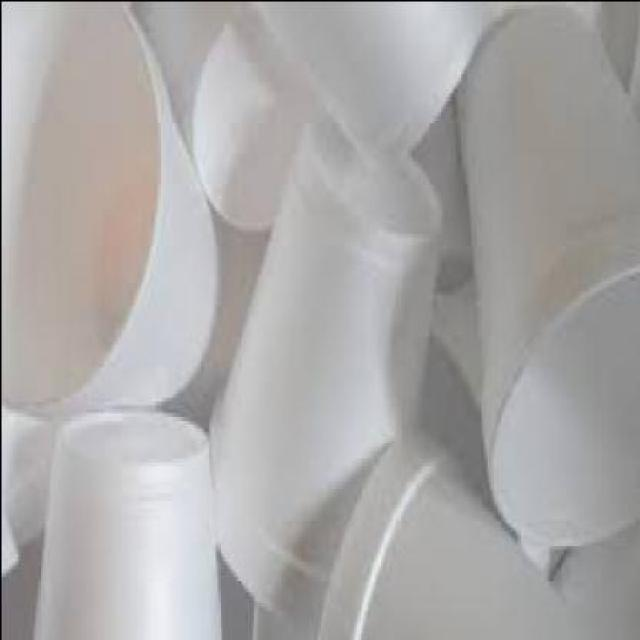PAPER: (201, 103, 439, 635), (451, 2, 638, 544), (1, 2, 212, 420), (311, 423, 575, 635), (28, 404, 220, 636), (419, 282, 561, 580), (243, 2, 486, 152), (184, 16, 291, 232), (166, 210, 268, 419), (406, 84, 471, 293), (131, 4, 218, 122), (1, 412, 42, 637), (548, 541, 638, 636), (591, 1, 638, 110)
